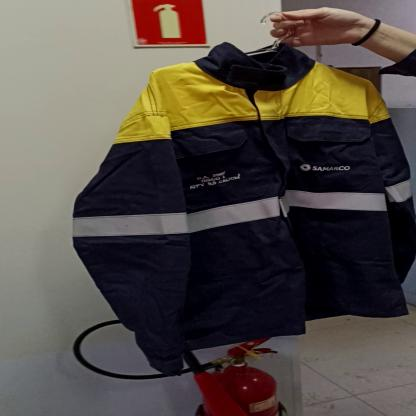C_eletrica: (70, 51, 416, 356)
